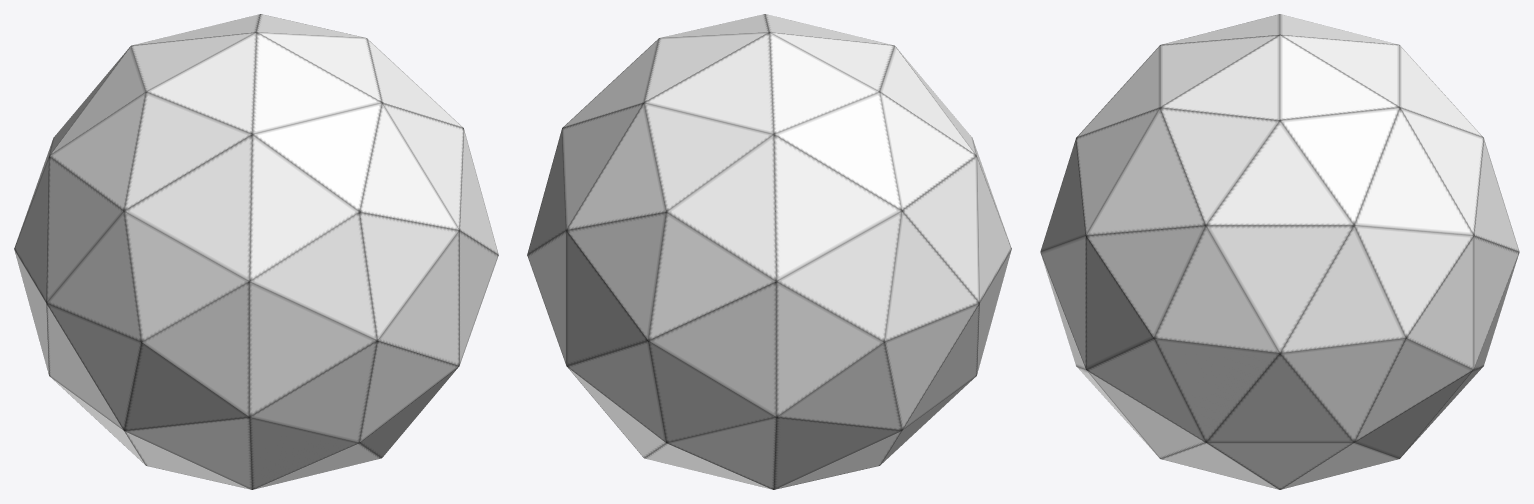
File: Planet-03.fbx
3 views of the same model, side by side, from view 1: azimuth 30°, elevation 25°; view 2: azimuth 150°, elevation 25°; view 3: azimuth 270°, elevation 25° (orthographic).
Visible parts, largest first — view 1: Planet_03; view 2: Planet_03; view 3: Planet_03.
Boxes of the visible parts, x1,y1,x2,y2 form: Planet_03: (14,14,498,489); Planet_03: (527,14,1011,489); Planet_03: (1040,14,1519,489).
Size of the model in its own units: 4.28 by 4.28 by 4.28.
